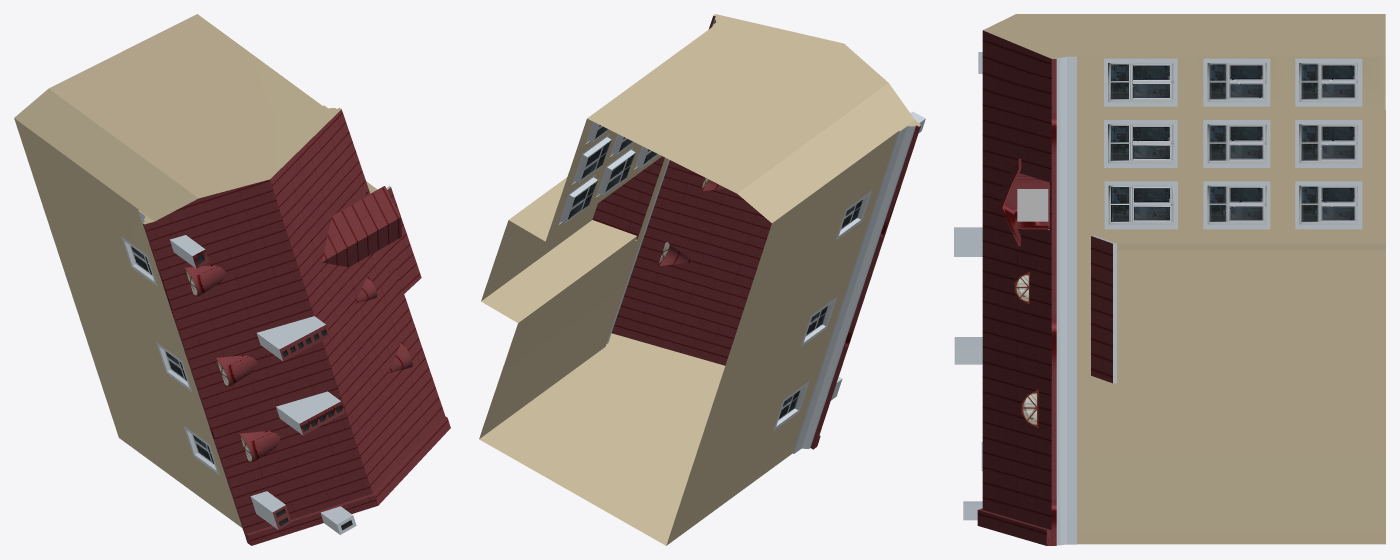
Rendered from Uus_13_1.obj.
3 views of the same model, side by side, from view 1: azimuth 30°, elevation 25°; view 2: azimuth 150°, elevation 25°; view 3: azimuth 270°, elevation 25° (orthographic). The views are drawn at different scales.
Visible parts, largest first — view 1: Uus13_01; view 2: Uus13_01; view 3: Uus13_01.
Boxes of the visible parts, <box> form: Uus13_01: <box>14,14,450,545</box>; Uus13_01: <box>479,14,925,545</box>; Uus13_01: <box>954,14,1385,545</box>.
Bounding box in the file's own units: 14.37 × 18.27 × 14.18.
